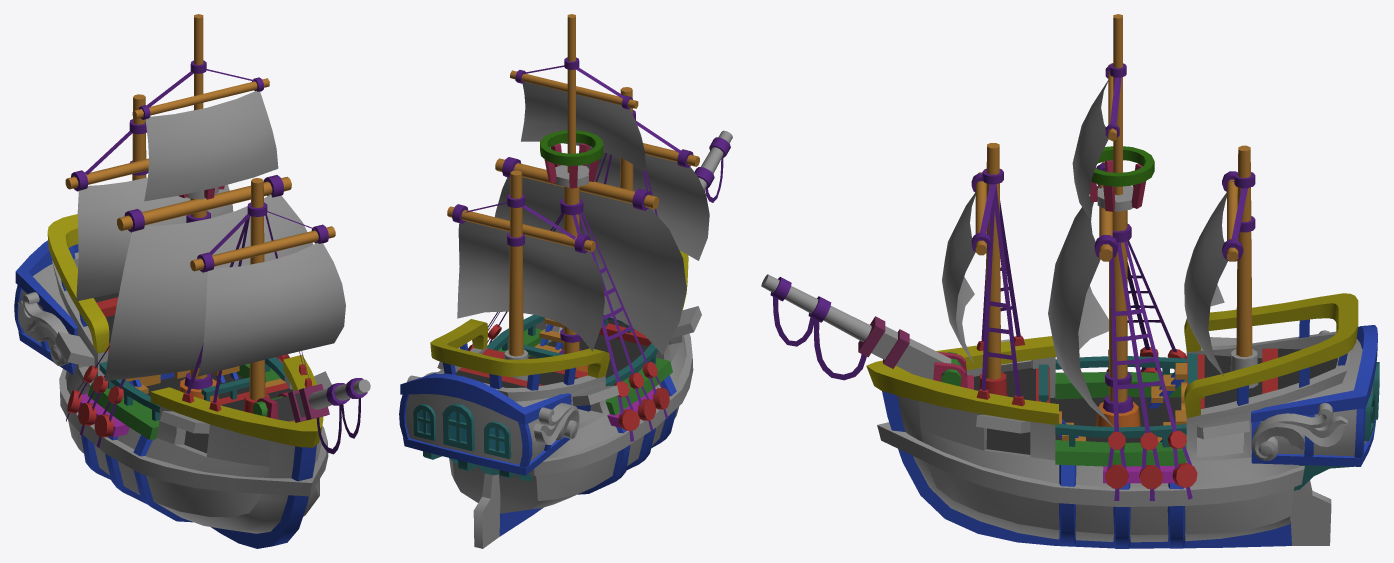
The model's file is Admiral_mm.fbx.
3 renders of one model, left to right at view 1: azimuth 30°, elevation 25°; view 2: azimuth 150°, elevation 25°; view 3: azimuth 270°, elevation 25°, orthographic. The views are drawn at different scales.
Visible parts, largest first — view 1: Admiral, Sails, Upgrade_02, Upgrade_01; view 2: Admiral, Sails, Upgrade_02, Rudder, Upgrade_01; view 3: Admiral, Sails, Upgrade_02, Upgrade_01, Rudder.
Part boxes in pixels (left/top/right/bottom): Admiral: left=14, top=14, right=370, bottom=548; Sails: left=76, top=90, right=345, bottom=380; Upgrade_02: left=59, top=369, right=328, bottom=496; Upgrade_01: left=17, top=292, right=68, bottom=366; Admiral: left=399, top=14, right=732, bottom=536; Sails: left=457, top=82, right=709, bottom=354; Upgrade_02: left=529, top=333, right=693, bottom=476; Rudder: left=473, top=473, right=500, bottom=548; Upgrade_01: left=407, top=372, right=579, bottom=444; Admiral: left=761, top=14, right=1379, bottom=548; Sails: left=942, top=80, right=1227, bottom=427; Upgrade_02: left=877, top=422, right=1304, bottom=506; Upgrade_01: left=1252, top=330, right=1347, bottom=460; Rudder: left=1290, top=480, right=1331, bottom=545.
Size of the model in its own units: 448 by 1015 by 1076.
